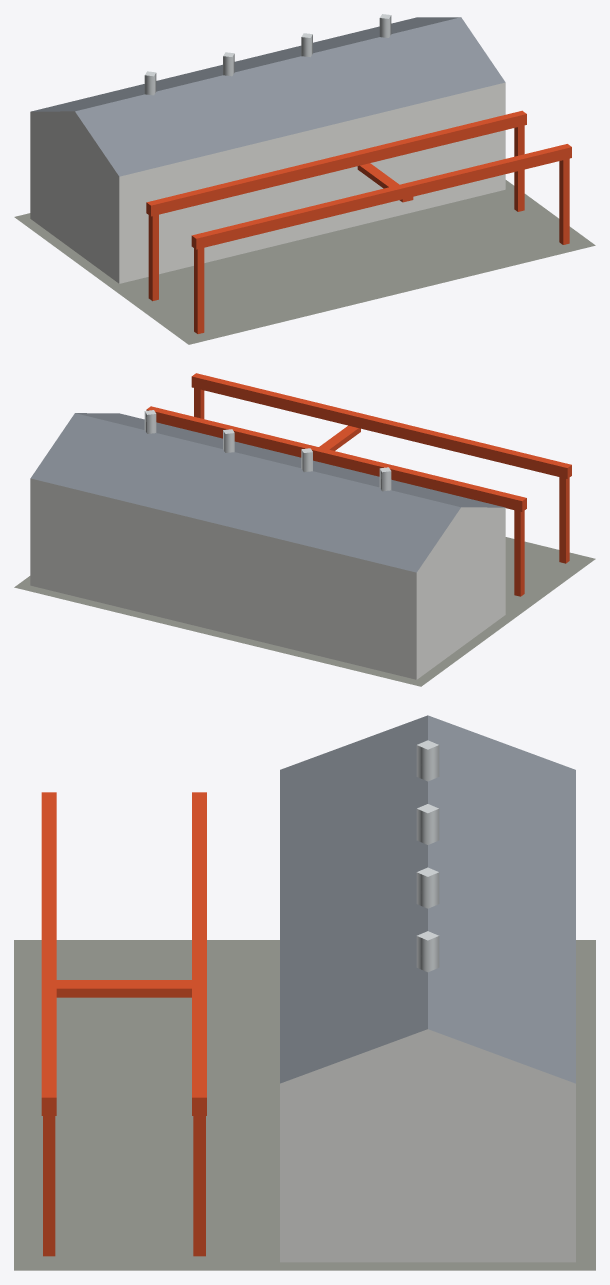
File: mashup-bogie-far.fbx
3 renders of one model, top to bottom at view 1: azimuth 30°, elevation 25°; view 2: azimuth 150°, elevation 25°; view 3: azimuth 270°, elevation 25°, orthographic. The views are drawn at different scales.
Visible parts, largest first — view 1: a1082/0/mashup-bogie-far; view 2: a1082/0/mashup-bogie-far; view 3: a1082/0/mashup-bogie-far.
Boxes of the visible parts, x1,y1,x2,y2 form: a1082/0/mashup-bogie-far: (14,14,595,344); a1082/0/mashup-bogie-far: (14,373,595,686); a1082/0/mashup-bogie-far: (14,715,595,1270).
Bounding box in the file's own units: 31.2 × 11.65 × 23.2.
